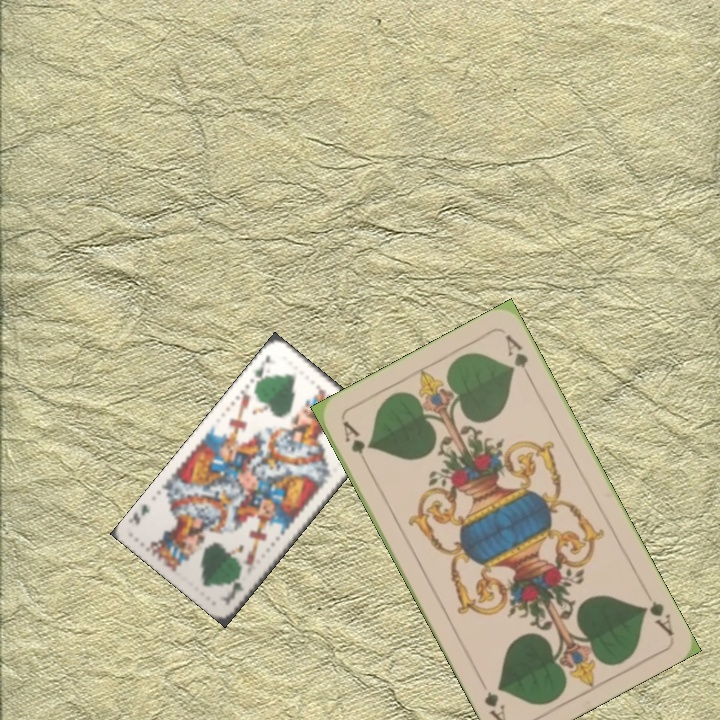GA: (339, 416, 372, 471), (637, 596, 676, 638)
GK: (250, 351, 277, 388), (224, 571, 247, 605)
